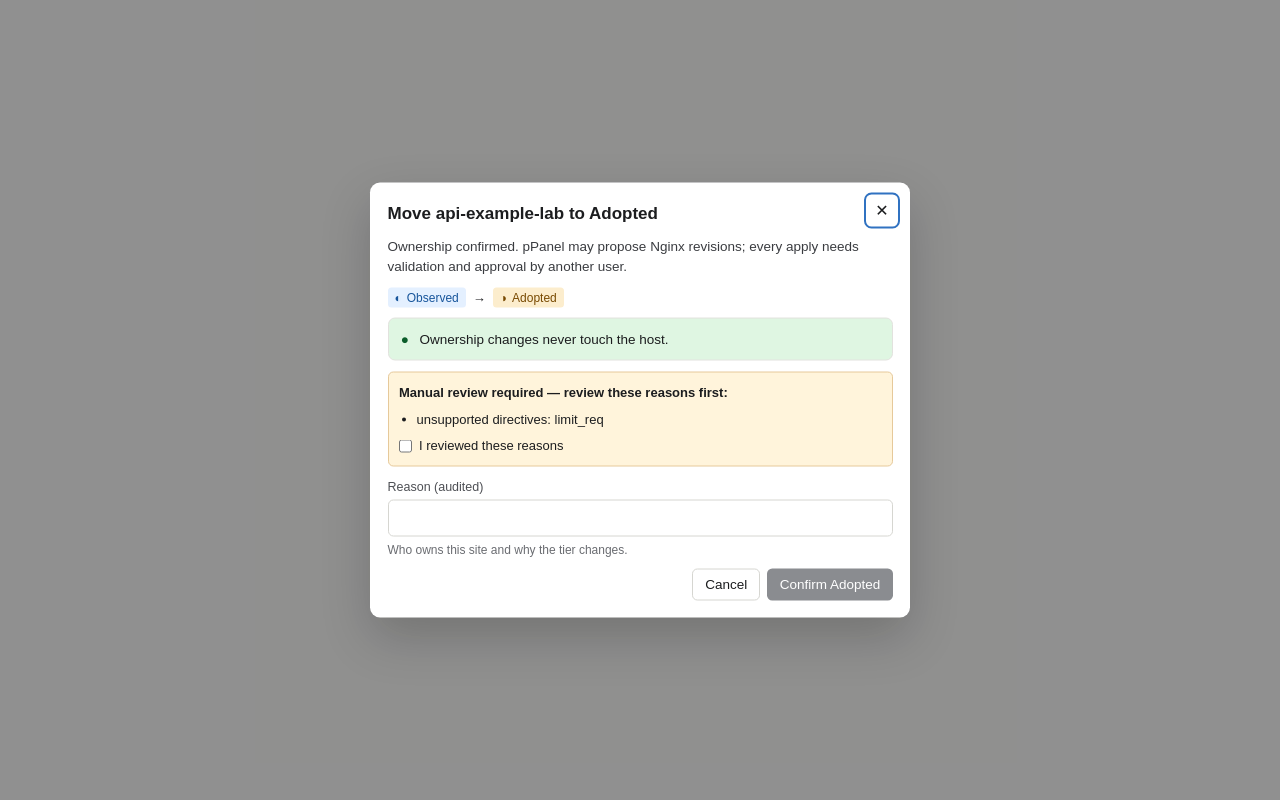
Test case: ownership step gating › adopt dialog lists reasons and keeps Confirm disabled until "I reviewed these" is ticked
Check: the element with test id "ack-reasons" shows "unsupported directives: limit_req", box [416,411,604,426]
Check: the text "Ownership changes never touch the host." is shown, box [419,331,669,346]
Type "owner confirmed" into the field labelled "Reason (audited)" at (640, 518), box [388,500,892,536]
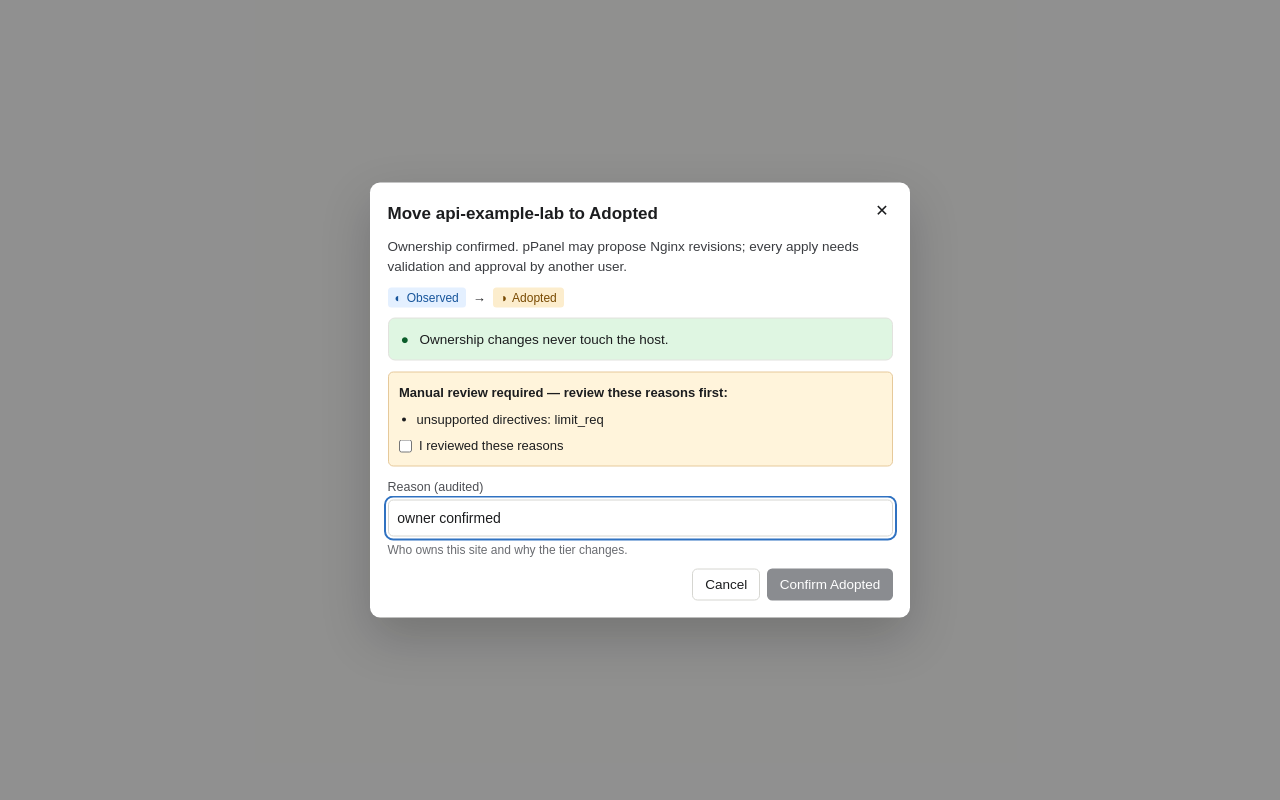
Check: the button "Confirm Adopted" is disabled, box [767,568,892,600]
Click the checkbox labelled "I reviewed these reasons" at (406, 446), box [399,439,412,452]
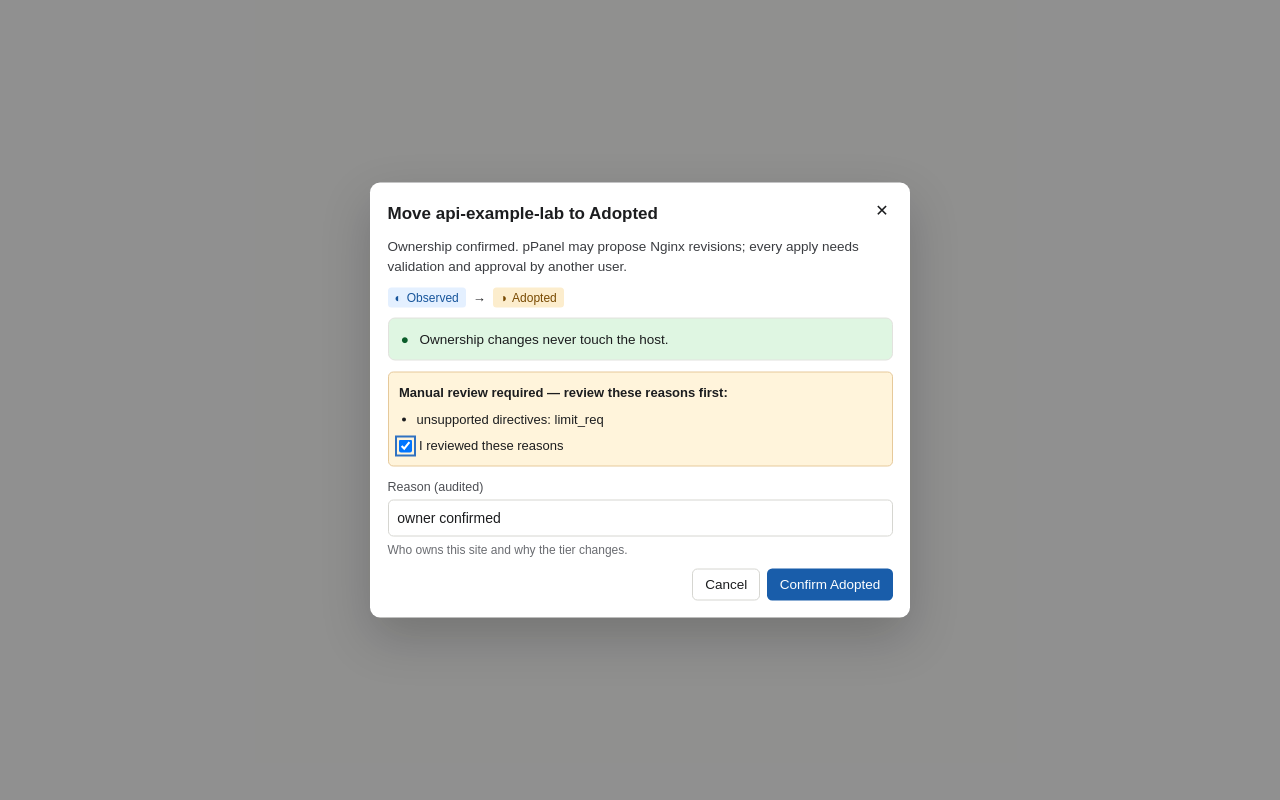
Check: the button "Confirm Adopted" is enabled, box [767,568,892,600]
